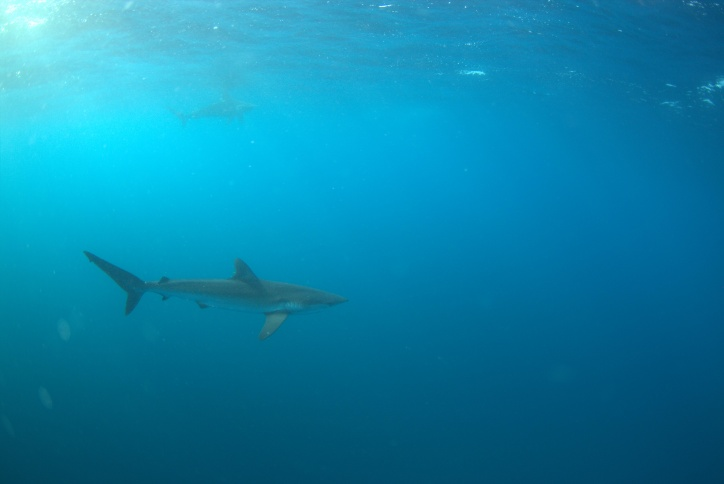Sedoso: (62, 229, 356, 350)
